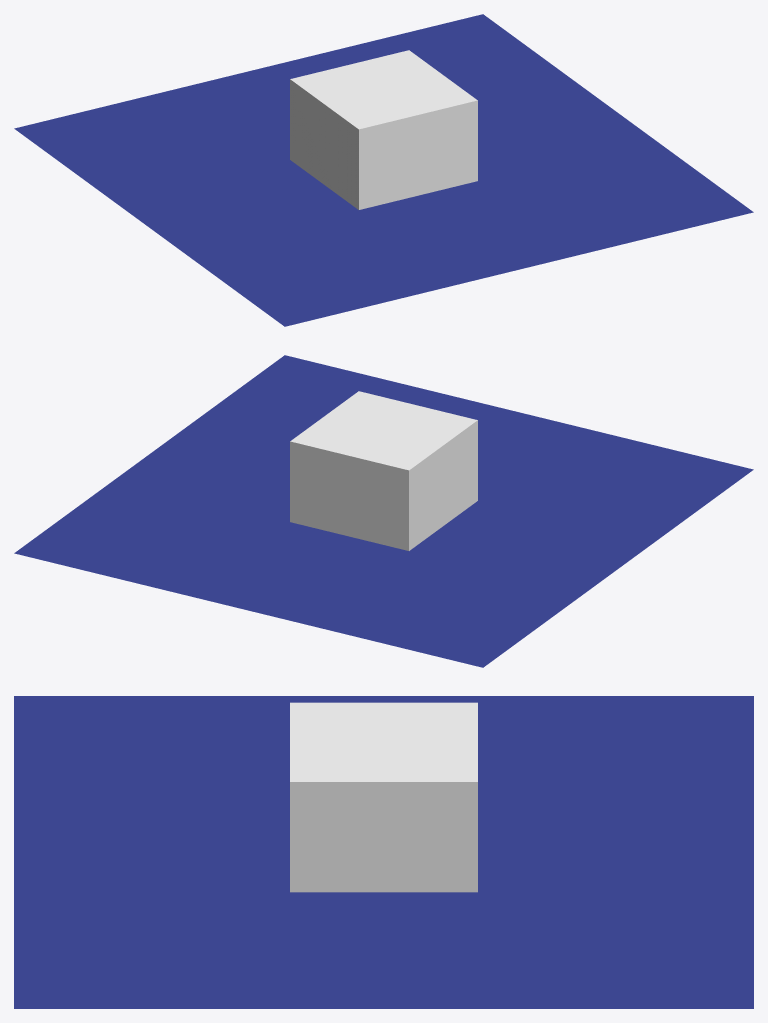
File: fall.glb
3 views of the same model, one above another, from view 1: azimuth 30°, elevation 25°; view 2: azimuth 150°, elevation 25°; view 3: azimuth 270°, elevation 25° (orthographic). The views are drawn at different scales.
Visible parts, largest first — view 1: Plane.021, fog; view 2: Plane.021, fog; view 3: Plane.021, fog.
Part boxes in pixels (x1,y1,x2,y2): Plane.021: (14, 14, 753, 326); fog: (290, 50, 477, 209); Plane.021: (14, 355, 753, 667); fog: (290, 391, 477, 550); Plane.021: (14, 696, 753, 1008); fog: (290, 702, 477, 892).
Bounding box in the file's own units: 110 × 27.86 × 110.
